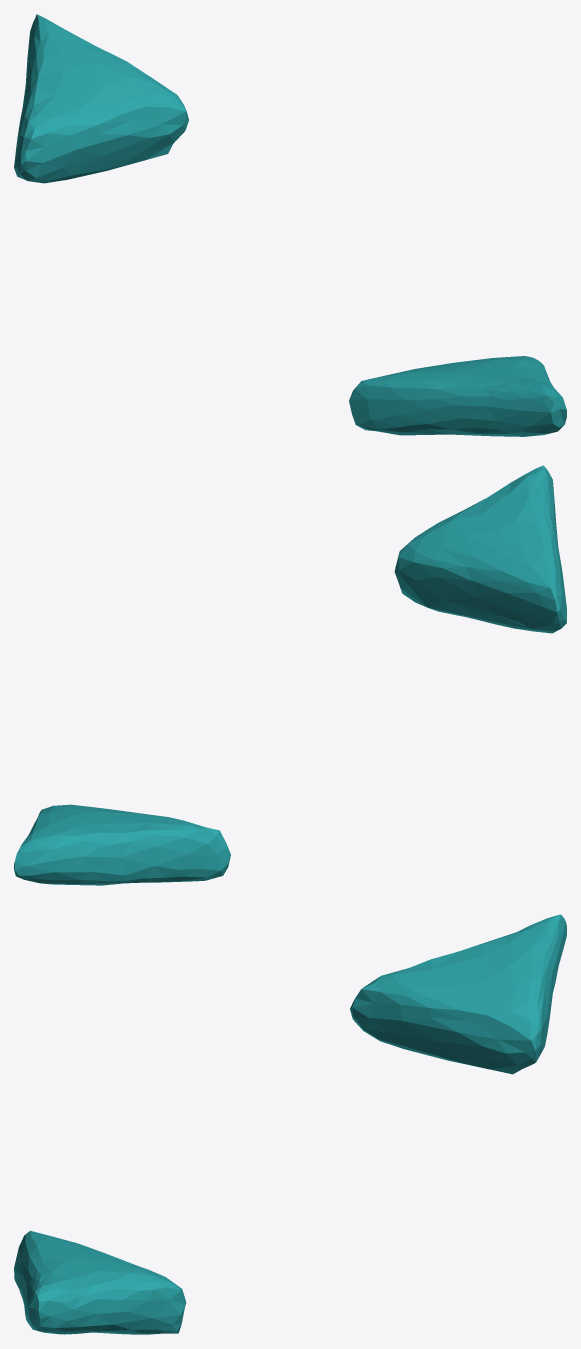
3 views of the same model, one above another, from view 1: azimuth 30°, elevation 25°; view 2: azimuth 150°, elevation 25°; view 3: azimuth 330°, elevation 25° (orthographic).
Visible parts, largest first — view 1: 433.obj; view 2: 433.obj; view 3: 433.obj.
Part boxes in pixels (bbox=[...]): 433.obj: bbox=[14, 14, 566, 436]; 433.obj: bbox=[14, 465, 566, 885]; 433.obj: bbox=[14, 914, 566, 1334].
Size of the model in its own units: 831 by 401 by 4307.
